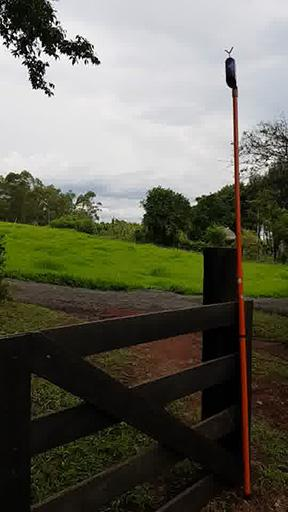Detector_Tensao_Contato: (223, 47, 238, 89)
Vara_Manobra: (231, 89, 253, 496)
